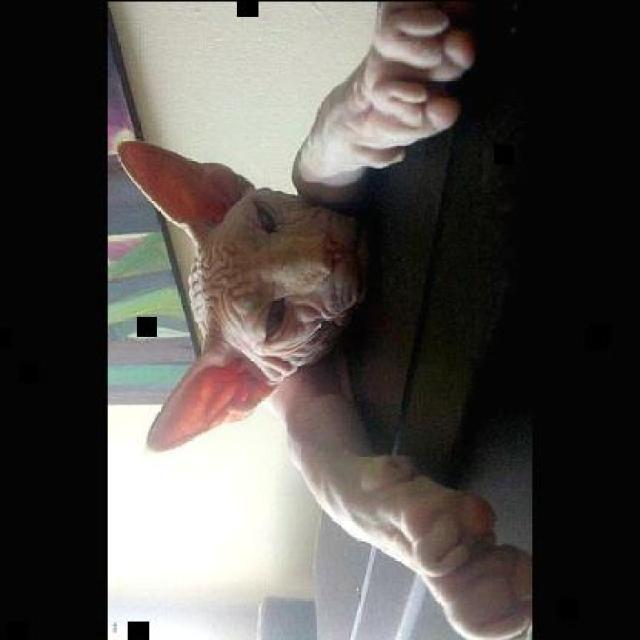unauthorized: (114, 136, 371, 452)
